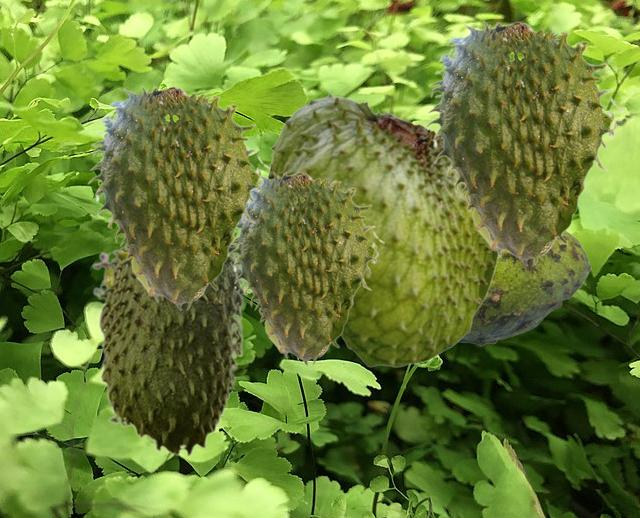guyabano: (267, 90, 500, 367), (424, 20, 624, 266), (87, 85, 270, 310), (92, 245, 249, 456), (229, 171, 384, 365), (459, 231, 590, 345)
